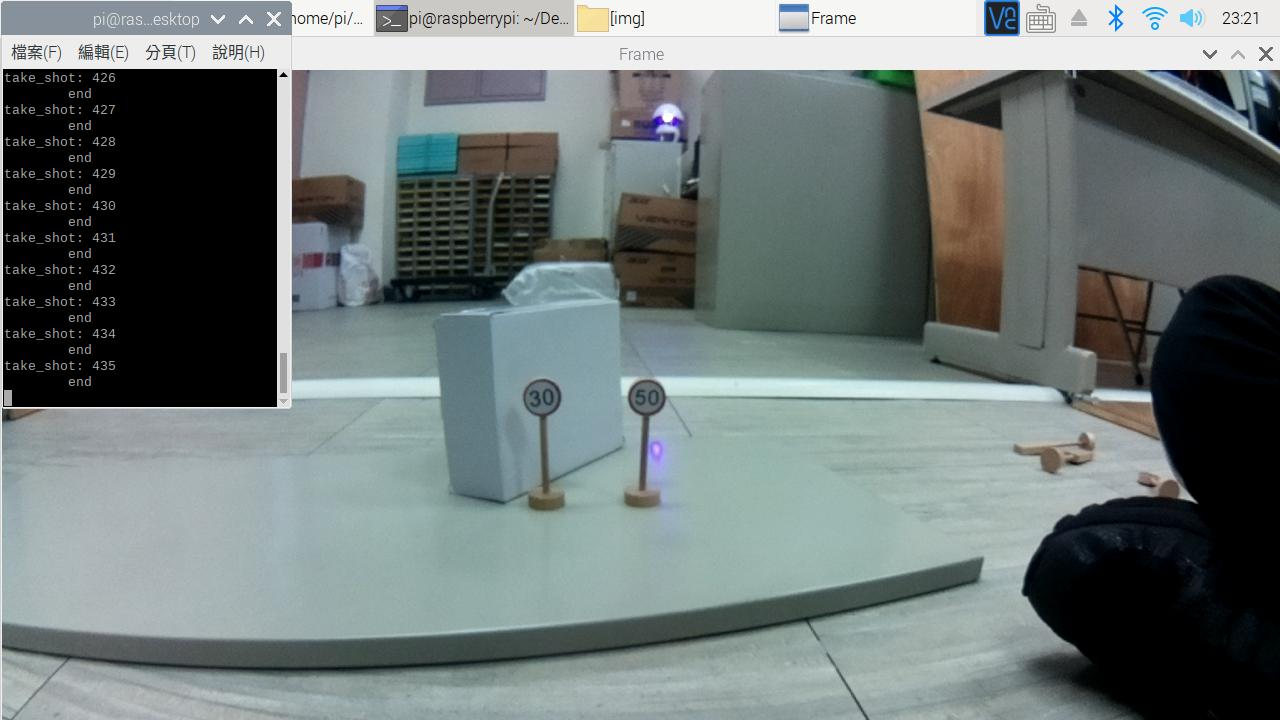Speed30: (514, 374, 582, 427)
Speed50: (611, 370, 689, 422)
